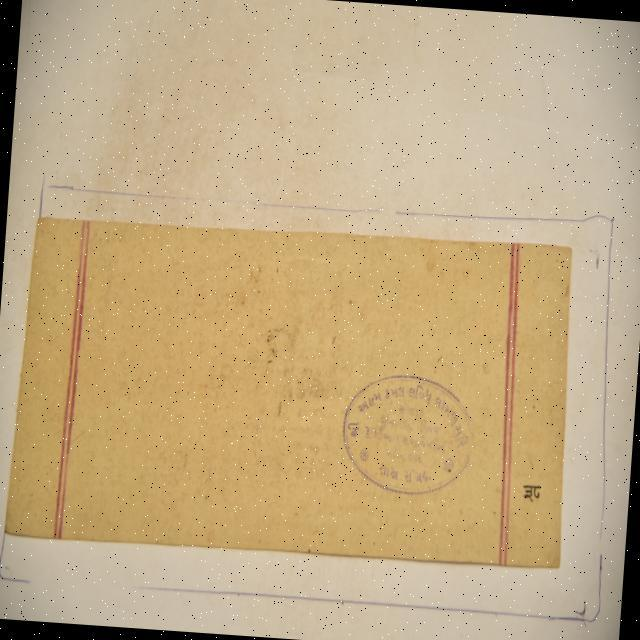text_paragraph: (1, 211, 574, 573)
